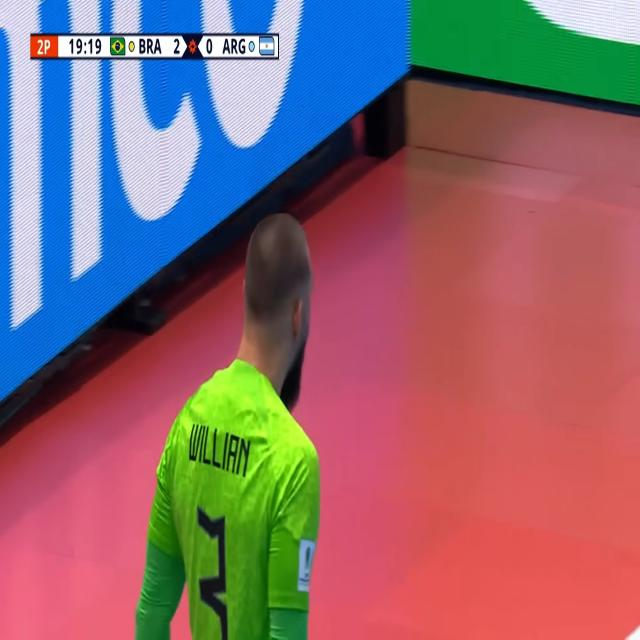Goal-keeper: (164, 216, 323, 640)
